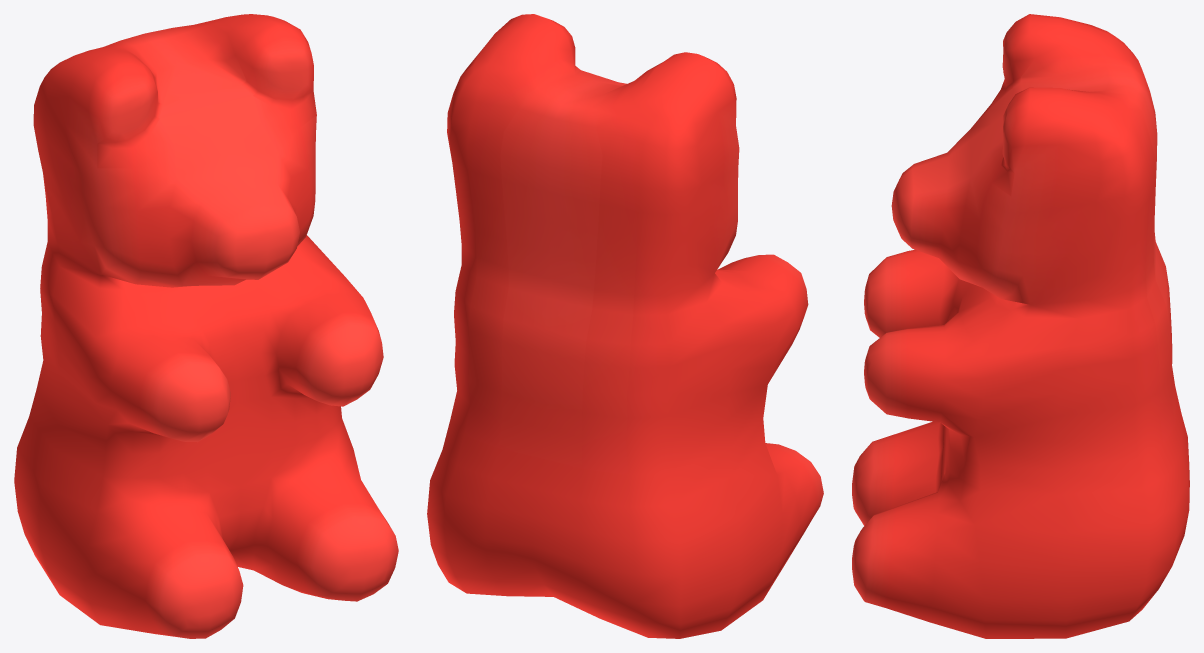
The model's file is GummiBear_06.glb.
3 views of the same model, side by side, from view 1: azimuth 30°, elevation 25°; view 2: azimuth 150°, elevation 25°; view 3: azimuth 270°, elevation 25° (orthographic). The views are drawn at different scales.
Parts seen in each view (by area): view 1: GummiBear_06; view 2: GummiBear_06; view 3: GummiBear_06.
Part boxes in pixels (x1,y1,x2,y2): GummiBear_06: (14,14,398,638); GummiBear_06: (427,14,823,638); GummiBear_06: (852,14,1189,638).
Size of the model in its own units: 1.92 by 3.54 by 2.03.
Materials: 1 (1 with a texture image).
